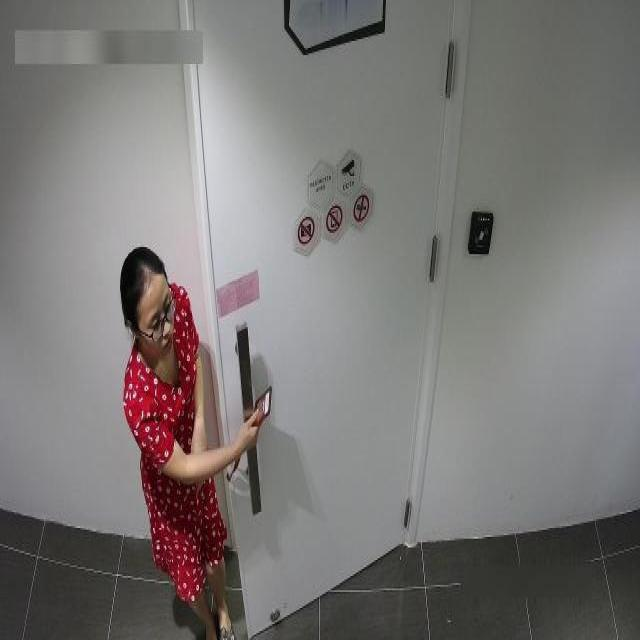bare_hand: (231, 402, 269, 471), (188, 423, 210, 455)
